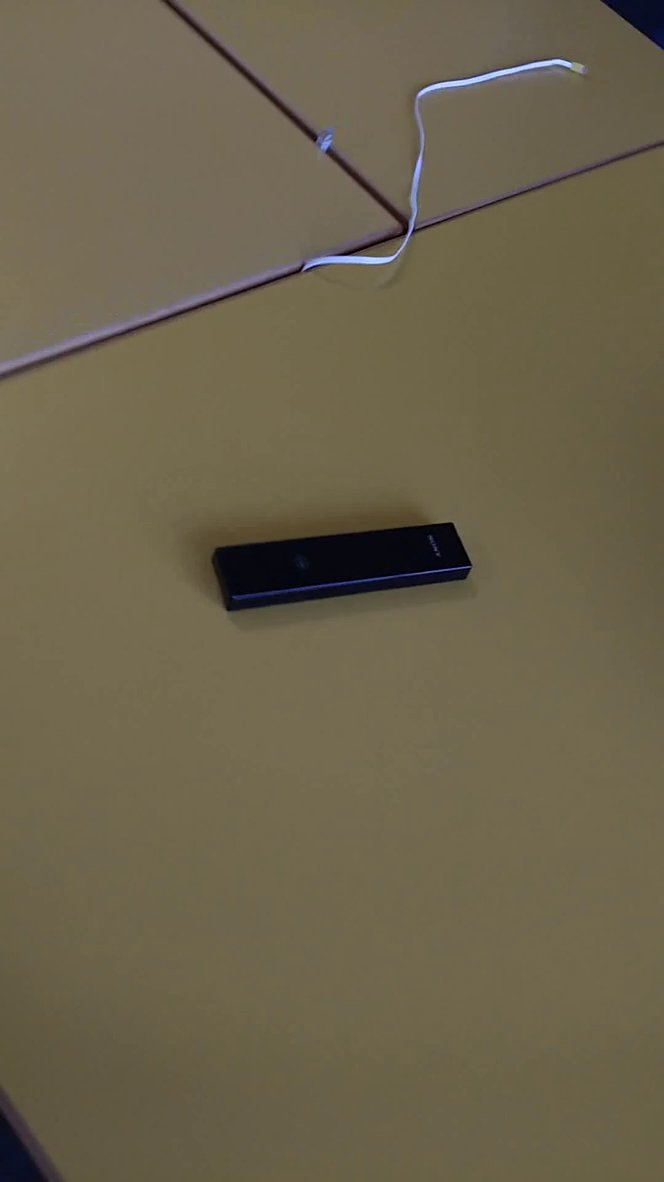remote: (194, 503, 487, 625)
